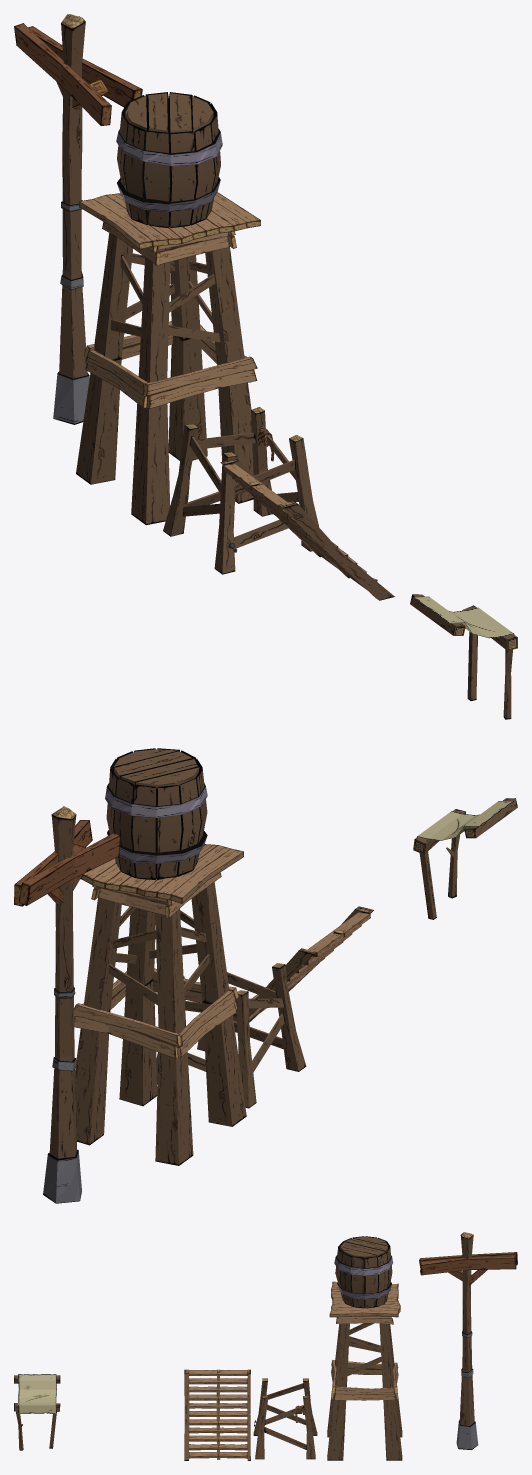
Rendered from outside2.fbx.
3 renders of one model, top to bottom at view 1: azimuth 30°, elevation 25°; view 2: azimuth 150°, elevation 25°; view 3: azimuth 270°, elevation 25°, orthographic. The views are drawn at different scales.
Parts seen in each view (by area): view 1: wieza wodna1, Słup elektryczny, rusztowanie drewno1, Schody.drewno.podwójne 1, Cube.018; view 2: wieza wodna1, Słup elektryczny, rusztowanie drewno1, Cube.018, Schody.drewno.podwójne 1; view 3: wieza wodna1, Schody.drewno.podwójne 1, Słup elektryczny, rusztowanie drewno1, Cube.018.
Boxes of the visible parts, x1,y1,x2,y2 form: wieza wodna1: [76, 92, 260, 525]; Słup elektryczny: [14, 14, 142, 424]; rusztowanie drewno1: [163, 407, 319, 574]; Schody.drewno.podwójne 1: [220, 458, 394, 600]; Cube.018: [410, 594, 517, 719]; wieza wodna1: [74, 748, 246, 1165]; Słup elektryczny: [14, 806, 120, 1203]; rusztowanie drewno1: [156, 963, 306, 1108]; Cube.018: [413, 798, 517, 919]; Schody.drewno.podwójne 1: [233, 906, 373, 1022]; wieza wodna1: [327, 1236, 402, 1460]; Schody.drewno.podwójne 1: [184, 1369, 250, 1460]; Słup elektryczny: [419, 1232, 517, 1449]; rusztowanie drewno1: [253, 1378, 317, 1459]; Cube.018: [14, 1374, 60, 1450].
Bounding box in the file's own units: 323 × 1043 × 2225.
